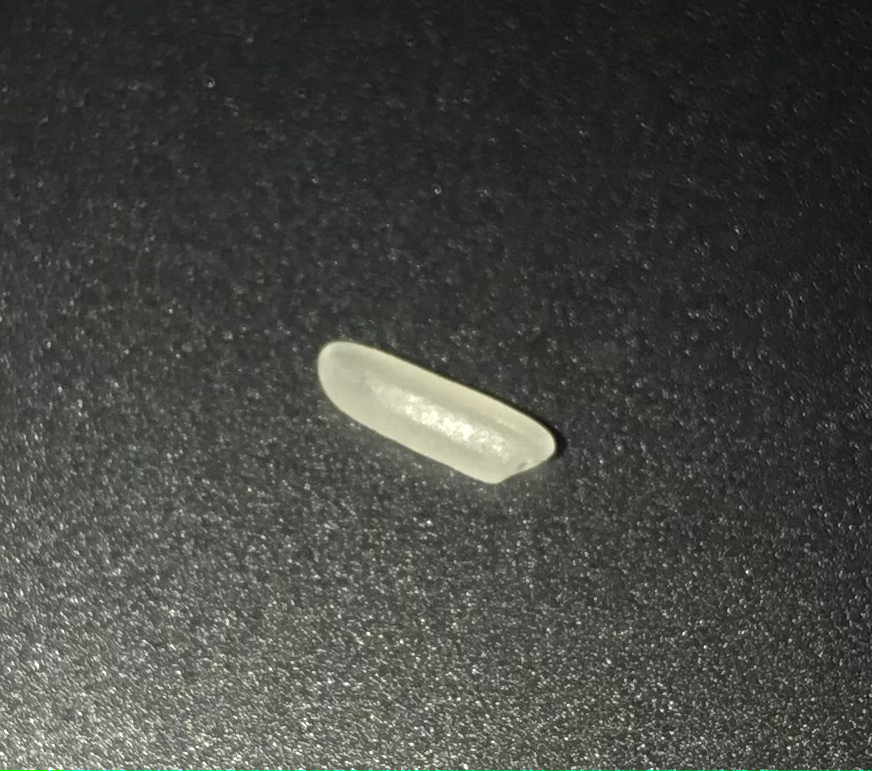Gao Thom My: (310, 331, 560, 492)
